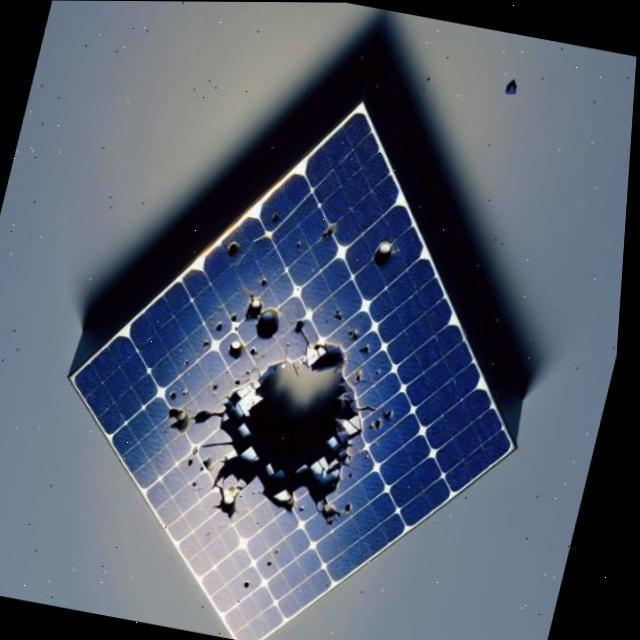Anomaly Solar Panel: (38, 106, 577, 640)
Structural Damage: (210, 331, 391, 537), (327, 294, 390, 369), (236, 289, 299, 350), (169, 406, 227, 440), (372, 228, 404, 274), (374, 399, 407, 439), (318, 211, 347, 251), (229, 335, 254, 371), (294, 312, 318, 343), (226, 236, 249, 264), (204, 441, 234, 452)
